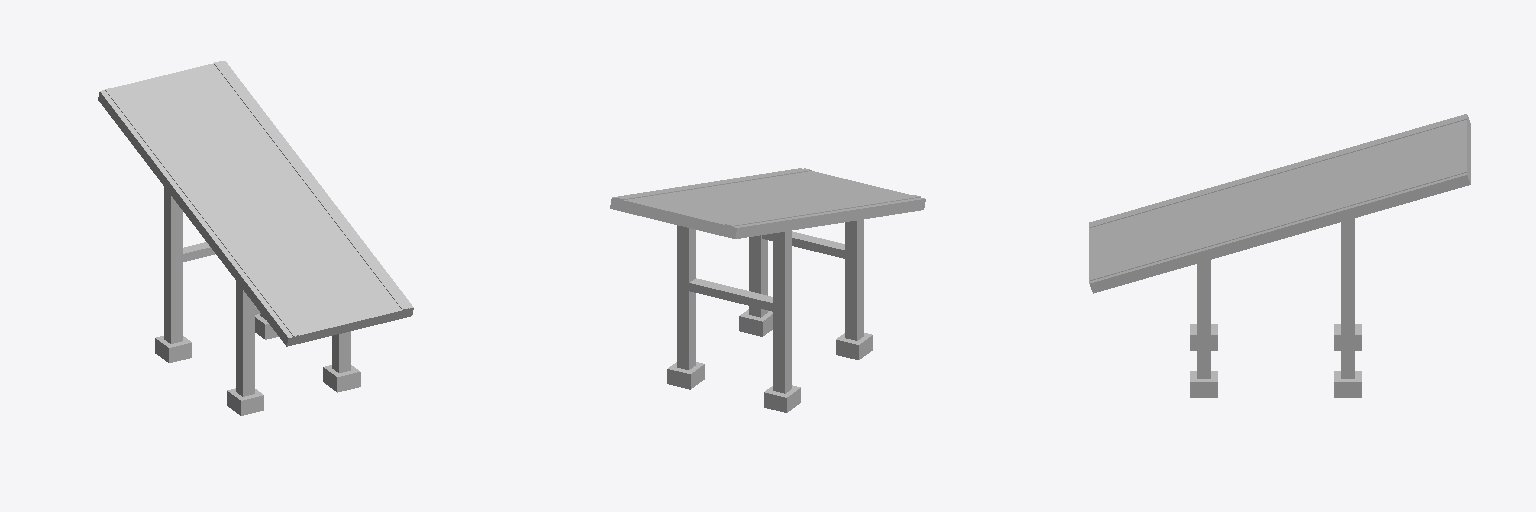
File: firstToSecondMonoRoadConnection.obj
The picture shows the model from 3 angles: view 1: azimuth 30°, elevation 25°; view 2: azimuth 150°, elevation 25°; view 3: azimuth 270°, elevation 25°; orthographic projection.
Parts seen in each view (by area): view 1: Cube.001, Куб.002, Куб.001; view 2: Cube.001, Куб.002, Куб.001; view 3: Cube.001, Куб.002, Куб.001.
Boxes of the visible parts, <box> form: Cube.001: <box>98,61,413,346</box>; Куб.002: <box>155,187,278,362</box>; Куб.001: <box>227,281,360,415</box>; Cube.001: <box>610,168,925,238</box>; Куб.002: <box>667,225,800,412</box>; Куб.001: <box>739,219,872,359</box>; Cube.001: <box>1089,114,1470,293</box>; Куб.002: <box>1334,218,1361,397</box>; Куб.001: <box>1190,260,1217,397</box>.
Size of the model in its own units: 2 by 3.43 by 5.27.